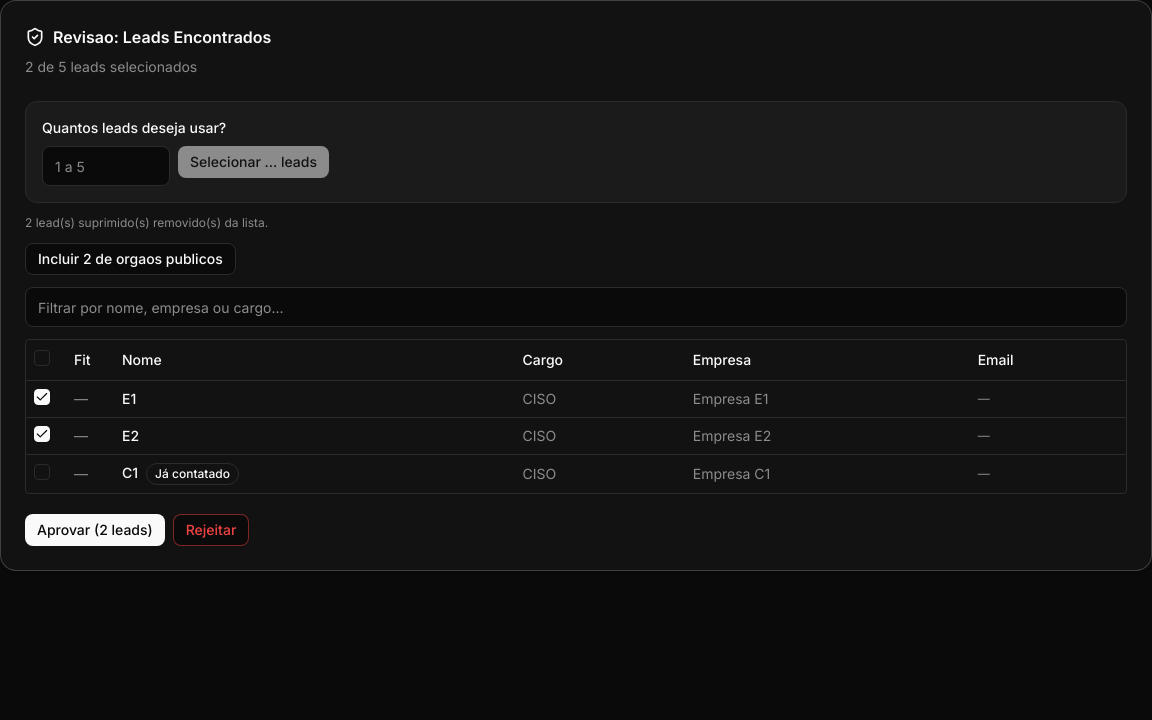
Test case: AgentLeadReview — Story 24.15 triagem › toggle inclui e oculta os orgaos publicos (ocultos saem da selecao)
Click the button with test id "toggle-public-sector": (130, 259) left=25, top=243, right=236, bottom=275
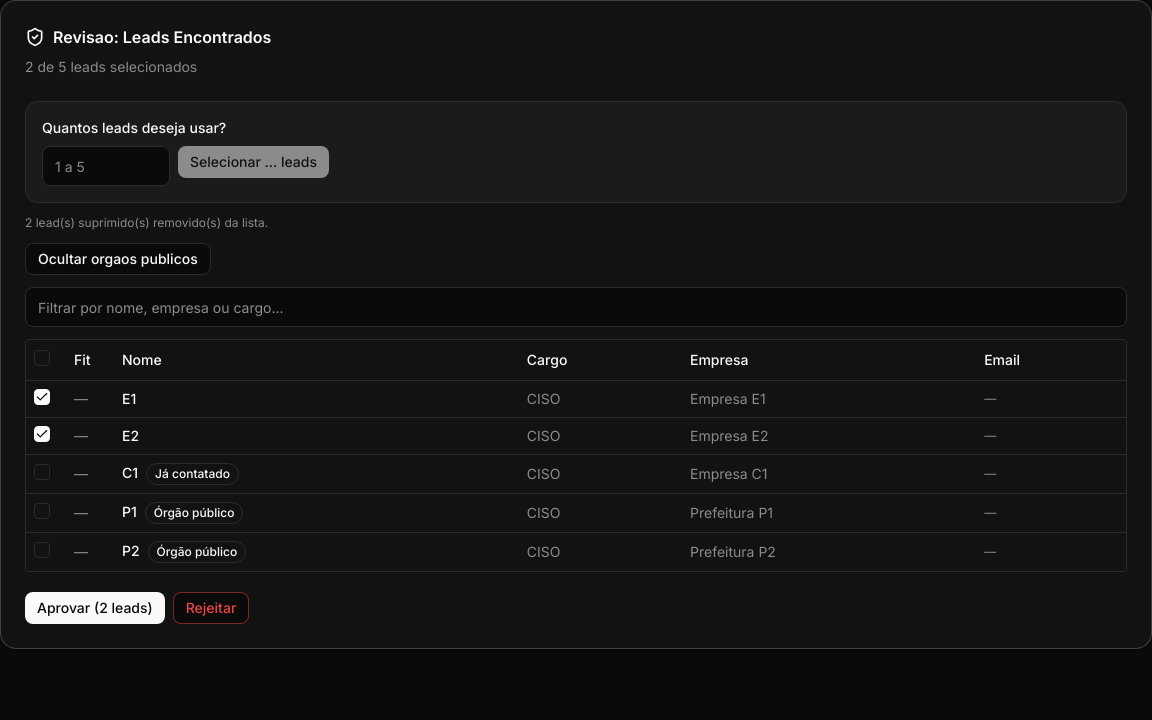
Expected: the text "P1" is shown, left=122, top=502, right=137, bottom=520
Expected: the number of elements with test id "lead-public-sector" is 2, left=145, top=502, right=243, bottom=524; left=148, top=540, right=246, bottom=562
Expected: the checkbox named "Selecionar P1" is not checked
Click the checkbox named "Selecionar P1": (42, 510) left=34, top=502, right=50, bottom=518
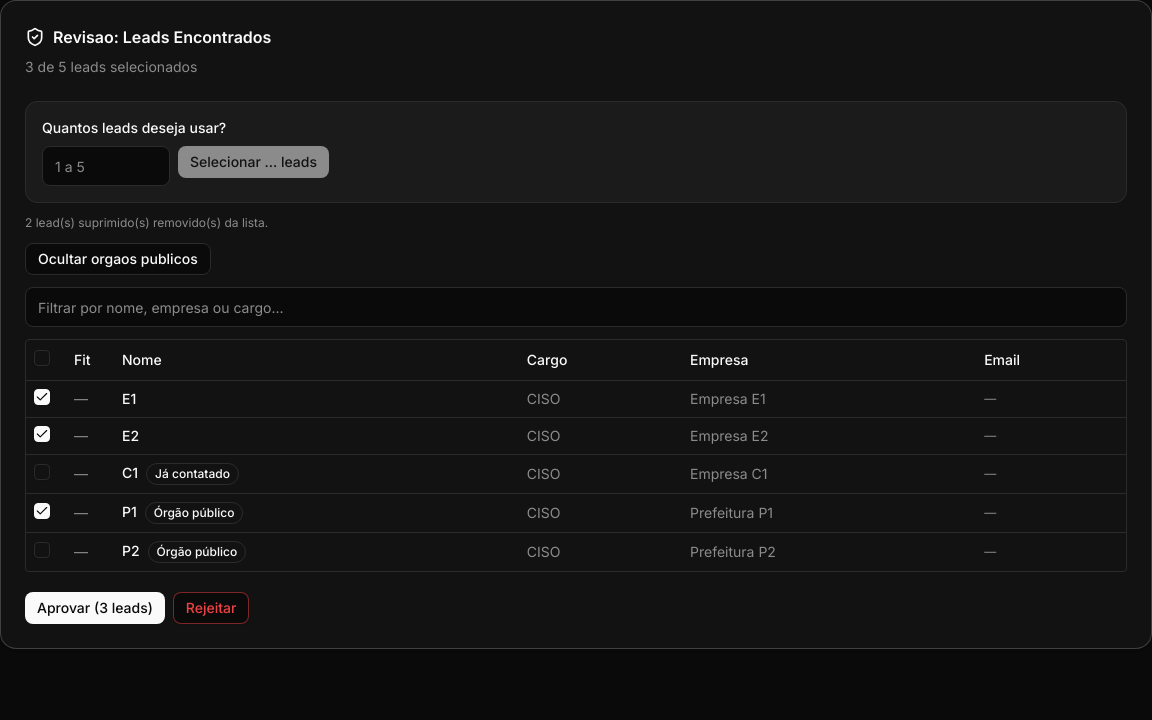
Expected: the button with test id "toggle-public-sector" reads "Ocultar orgaos publicos"
Expected: the text "3 de 5 leads selecionados" is shown, left=25, top=58, right=197, bottom=75
Click the button with test id "toggle-public-sector": (118, 259) left=25, top=243, right=211, bottom=275
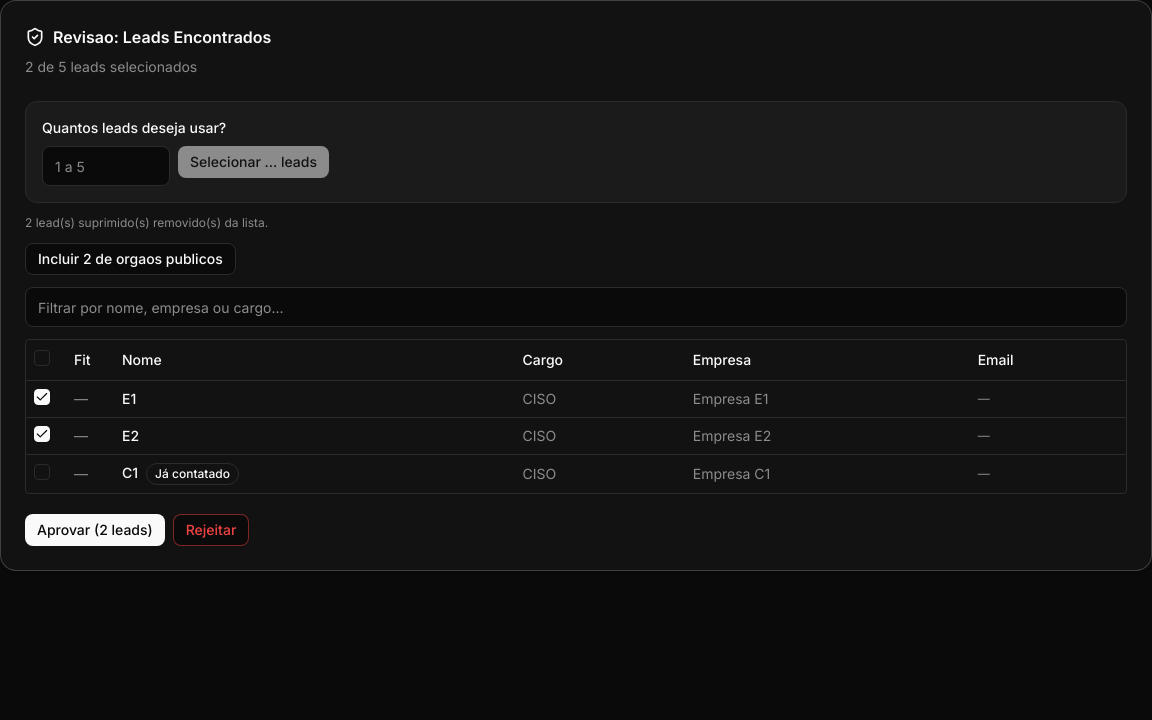
Expected: the text "P1" is gone
Expected: the text "2 de 5 leads selecionados" is shown, left=25, top=58, right=197, bottom=75
